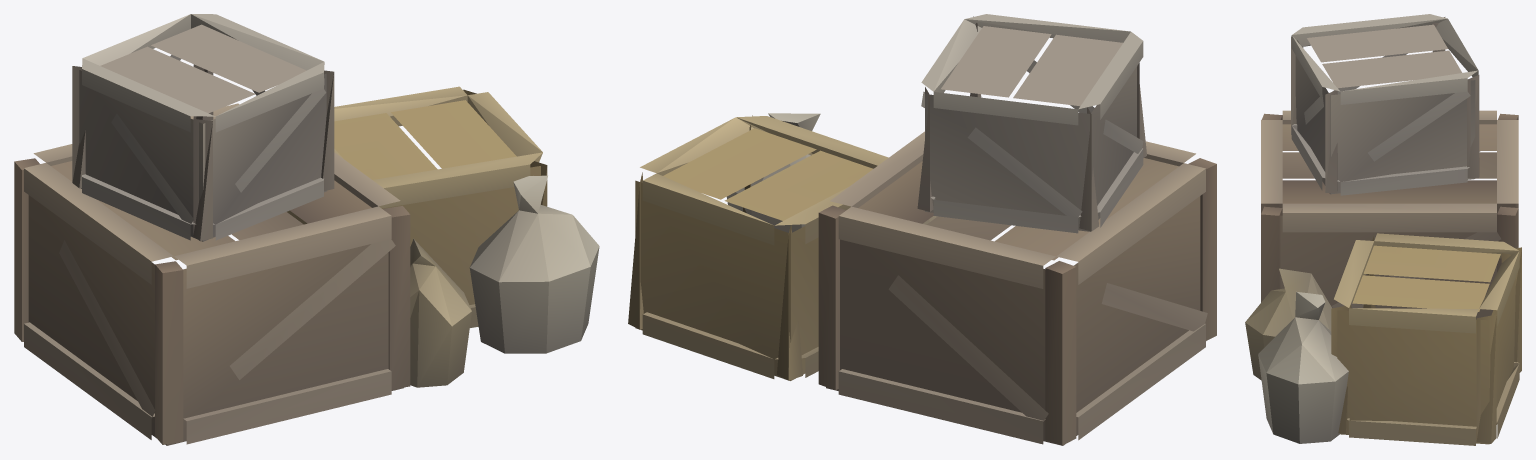
3 renders of one model, left to right at view 1: azimuth 30°, elevation 25°; view 2: azimuth 150°, elevation 25°; view 3: azimuth 270°, elevation 25°, orthographic. The views are drawn at different scales.
Size of the model in its own units: 1.93 by 1.22 by 1.2.
